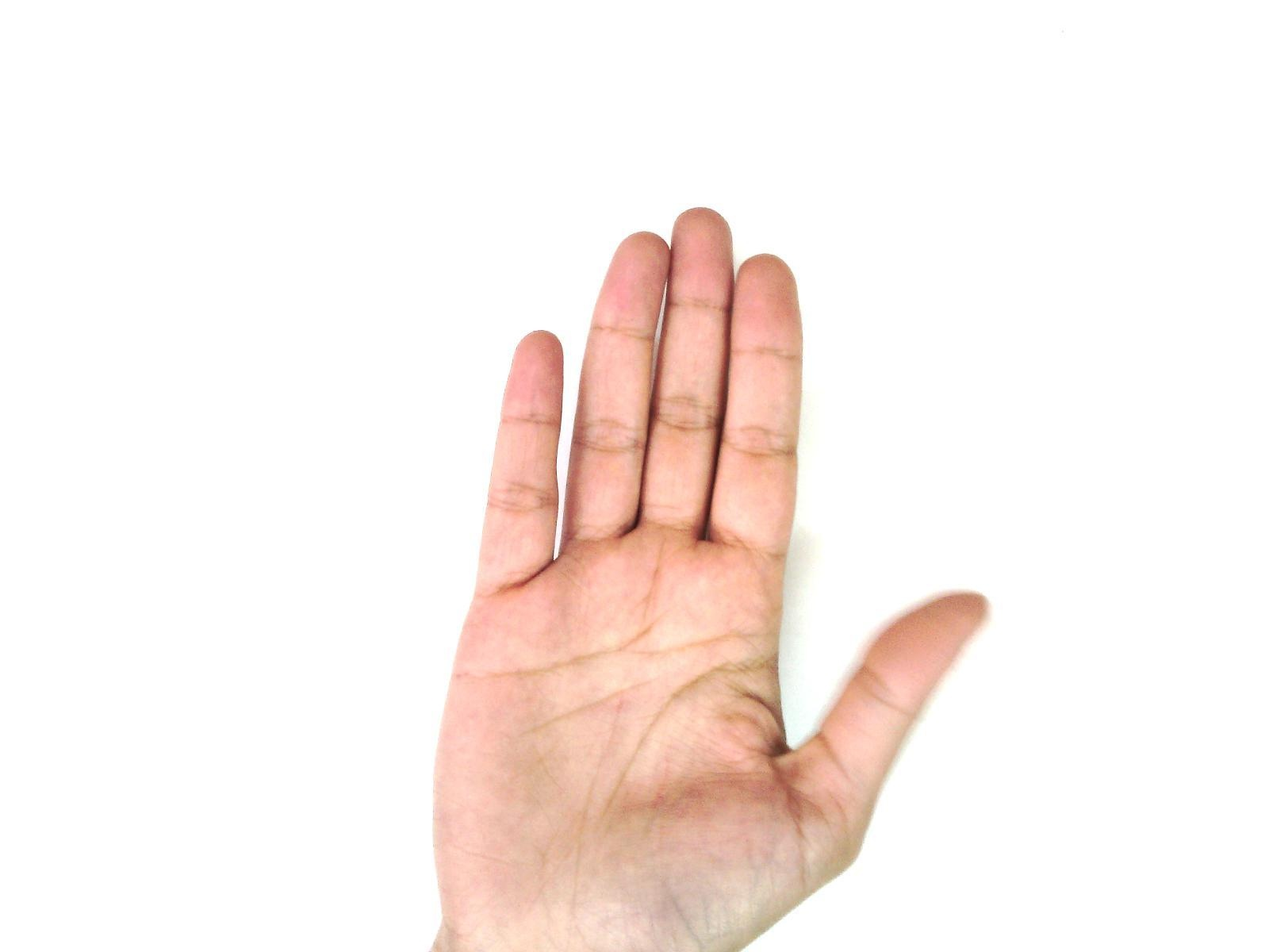open_palm: (426, 206, 993, 952)
